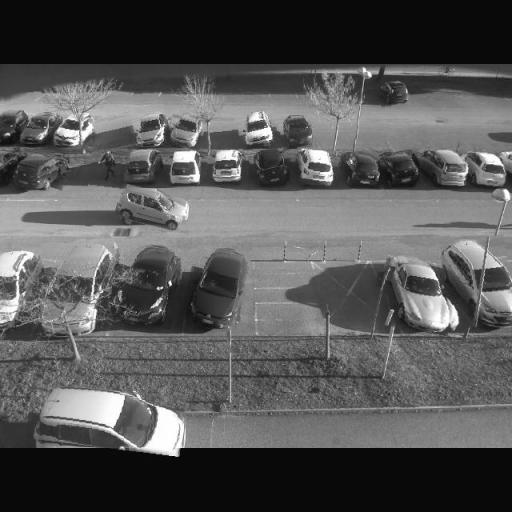busy: (26, 384, 185, 452), (102, 241, 183, 327), (442, 236, 512, 328), (378, 254, 458, 333), (182, 244, 248, 328), (35, 243, 114, 309), (115, 186, 186, 230), (8, 150, 67, 192), (1, 250, 34, 320), (294, 146, 340, 187), (422, 150, 471, 188), (248, 148, 294, 188), (378, 150, 422, 188), (338, 152, 384, 188), (117, 150, 165, 184), (464, 152, 508, 189), (128, 110, 170, 148), (236, 111, 278, 148), (161, 150, 204, 184), (16, 111, 58, 145), (206, 150, 246, 184), (52, 114, 92, 147), (279, 115, 316, 149), (167, 114, 204, 148), (378, 77, 411, 109), (0, 112, 25, 143), (0, 153, 18, 188)
free: (90, 114, 136, 154), (88, 148, 130, 191), (388, 126, 430, 154), (312, 124, 352, 151), (352, 125, 390, 153), (2, 82, 42, 108), (134, 76, 164, 106), (428, 129, 466, 151), (208, 124, 238, 146)
